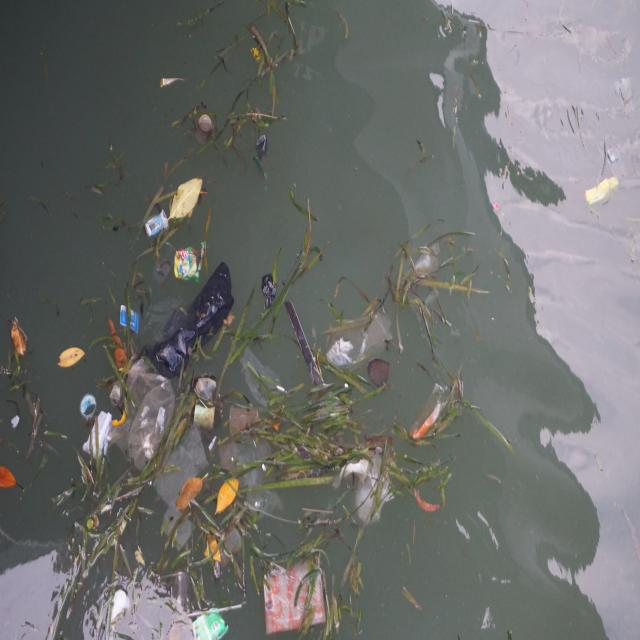Bungkus Makanan: (192, 606, 230, 640), (170, 244, 202, 283)
Bungkus Minuman: (145, 210, 170, 239), (76, 394, 100, 424)
Kantong Plastik: (151, 262, 235, 380), (109, 356, 179, 475), (263, 556, 328, 635), (327, 308, 392, 365)
